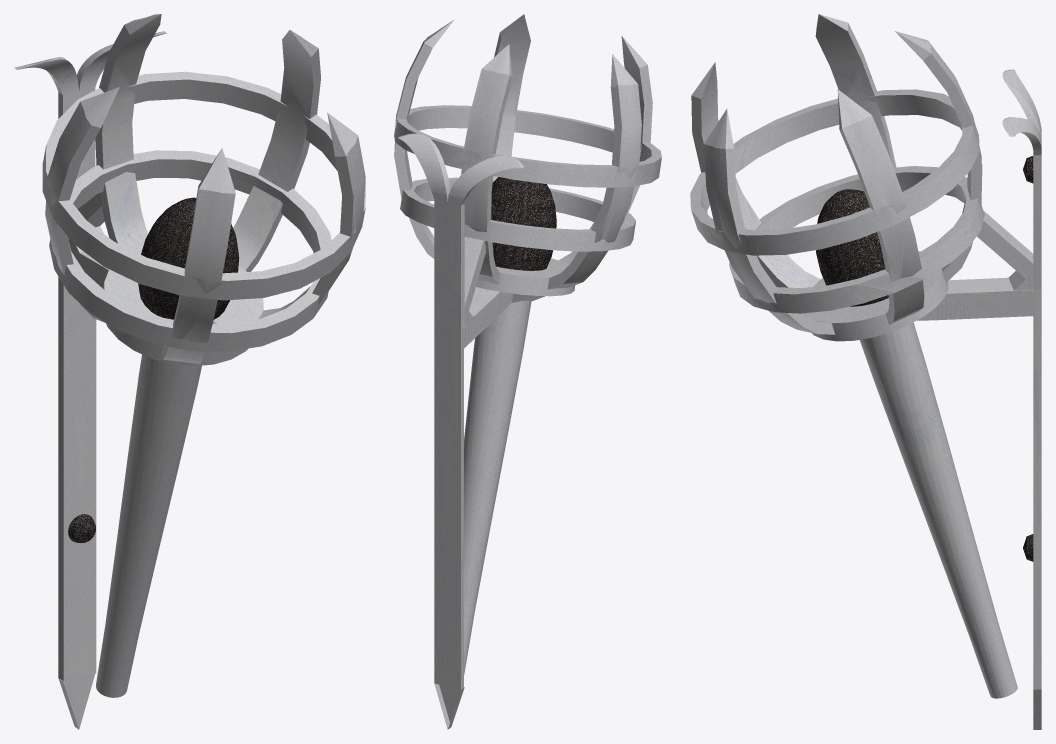
File: ACC_TORCH_002.fbx
3 renders of one model, left to right at view 1: azimuth 30°, elevation 25°; view 2: azimuth 150°, elevation 25°; view 3: azimuth 270°, elevation 25°, orthographic. The views are drawn at different scales.
Visible parts, largest first — view 1: Group4, Group2, Group3, Group5; view 2: Group4, Group2, Group3; view 3: Group4, Group2, Group3.
Part boxes in pixels (box(x1,y1,x2,y2)): Group4: box(14, 14, 365, 729); Group2: box(96, 354, 201, 697); Group3: box(138, 197, 239, 319); Group5: box(68, 514, 95, 542); Group4: box(394, 14, 661, 729); Group2: box(464, 300, 531, 674); Group3: box(491, 177, 556, 270); Group4: box(690, 14, 1041, 729); Group2: box(859, 322, 1017, 698); Group3: box(816, 189, 888, 306).
Bounding box in the file's own units: 15.85 × 41.59 × 18.87.
